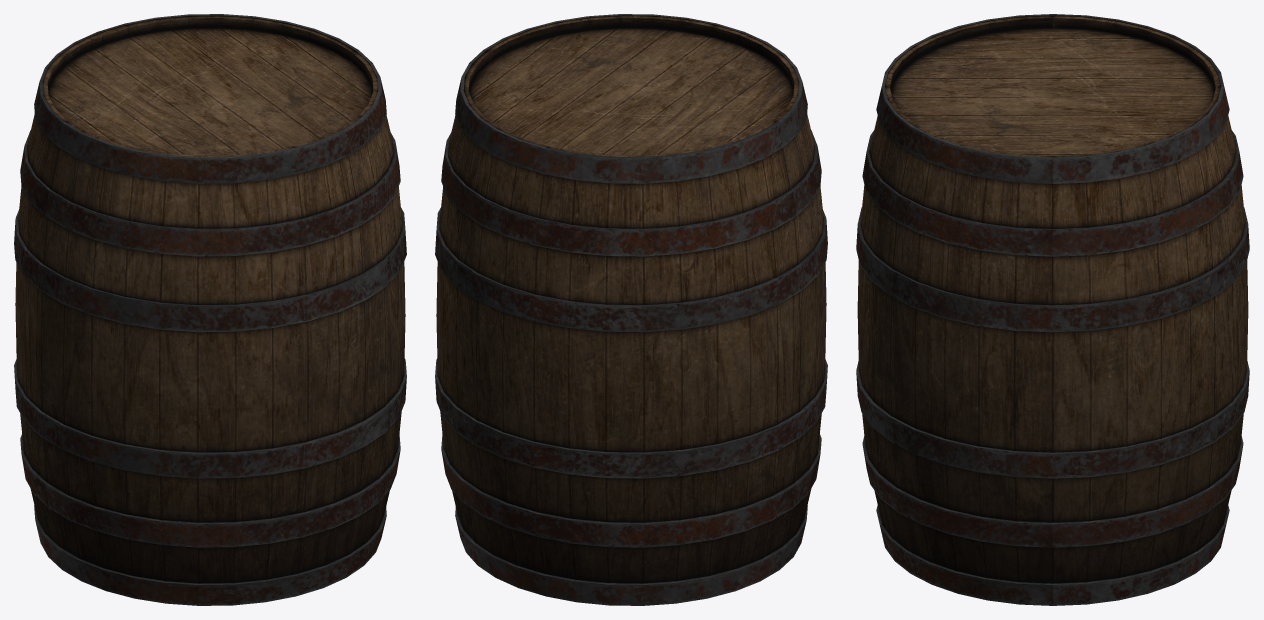
File: SM_Barrel.fbx
The picture shows the model from 3 angles, left to right: view 1: azimuth 30°, elevation 25°; view 2: azimuth 150°, elevation 25°; view 3: azimuth 270°, elevation 25°; orthographic projection.
Parts seen in each view (by area): view 1: SM_Barrel_LOD0; view 2: SM_Barrel_LOD0; view 3: SM_Barrel_LOD0.
Boxes of the visible parts, x1,y1,x2,y2 form: SM_Barrel_LOD0: [14, 14, 406, 605]; SM_Barrel_LOD0: [435, 14, 827, 605]; SM_Barrel_LOD0: [856, 14, 1249, 605].
Bounding box in the file's own units: 72.75 × 72.75 × 91.22.
Materials: 1 (1 with a texture image).
